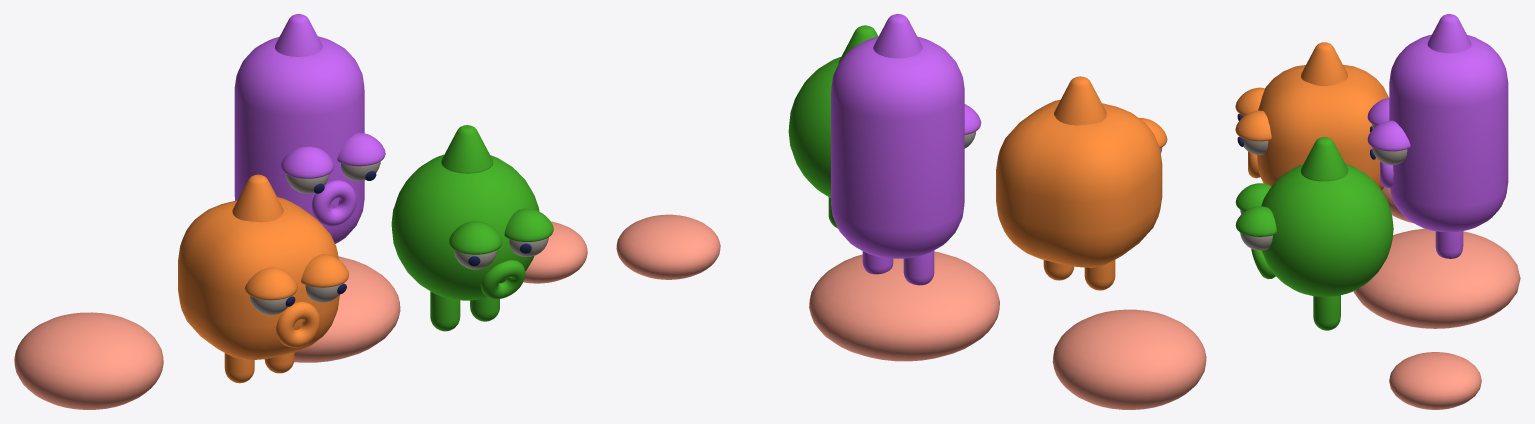
The model's file is demo1.glb.
The picture shows the model from 3 angles, left to right: view 1: azimuth 30°, elevation 25°; view 2: azimuth 150°, elevation 25°; view 3: azimuth 270°, elevation 25°; orthographic projection. The views are drawn at different scales.
Visible parts, largest first — view 1: 柱体.004, 立方体, 球体.006, 球体.020, 球体.019, 球体.021, 锥体.001, 锥体, 环体.002, 环体, 锥体.002, 球体.008 (+9 smaller); view 2: 柱体.004, 立方体, 球体.019, 球体.020, 球体.021, 球体.006, 锥体, 锥体.002, 柱体.005, 柱体, 柱体.006; view 3: 柱体.004, 球体.006, 球体.019, 立方体, 球体.021, 锥体.001, 锥体, 锥体.002, 球体.011, 球体.017, 柱体.003, 球体.004 (+10 smaller).
Boxes of the visible parts, box(x1,y1,x2,y2) form: 柱体.004: box(234, 36, 364, 243); 立方体: box(178, 197, 339, 360); 球体.006: box(391, 154, 539, 300); 球体.020: box(14, 312, 163, 409); 球体.019: box(294, 256, 400, 362); 球体.021: box(523, 221, 587, 283); 锥体.001: box(441, 125, 493, 173); 锥体: box(232, 174, 283, 222); 环体.002: box(311, 180, 356, 226); 环体: box(276, 302, 319, 347); 锥体.002: box(275, 14, 322, 56); 球体.008: box(449, 221, 502, 254); 柱体.004: box(831, 36, 964, 258); 立方体: box(996, 99, 1162, 267); 球体.019: box(809, 251, 999, 361); 球体.020: box(1052, 309, 1206, 409); 球体.021: box(616, 214, 720, 279); 球体.006: box(788, 57, 840, 197); 锥体: box(1054, 76, 1106, 125); 锥体.002: box(873, 14, 922, 58); 柱体.005: box(903, 250, 934, 285); 柱体: box(1084, 260, 1115, 290); 柱体.006: box(862, 251, 893, 274); 柱体.004: box(1389, 34, 1508, 232); 球体.006: box(1261, 164, 1393, 296); 球体.019: box(1353, 228, 1520, 328); 立方体: box(1257, 65, 1388, 190); 球体.021: box(1389, 352, 1481, 409); 锥体.001: box(1300, 137, 1347, 181); 锥体: box(1301, 42, 1347, 85); 锥体.002: box(1427, 14, 1471, 53); 球体.011: box(1235, 206, 1276, 236); 球体.017: box(1367, 120, 1410, 151); 柱体.003: box(1313, 295, 1340, 330); 球体.004: box(1235, 110, 1271, 141).
Bounding box in the file's own units: 8.59 × 4.79 × 4.16.
